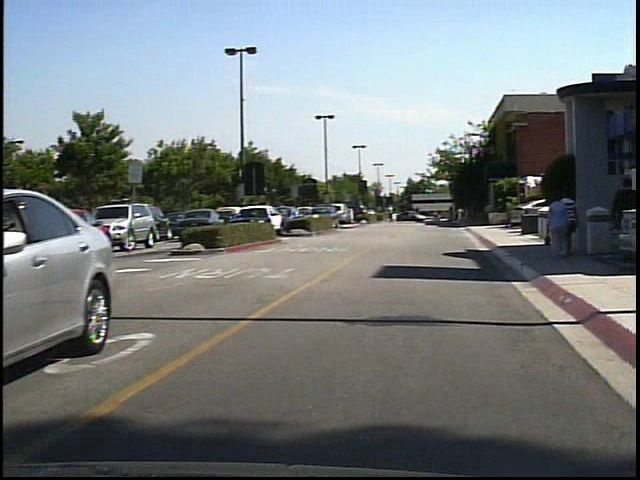person: (554, 191, 581, 266), (568, 189, 588, 260), (393, 202, 403, 224)
